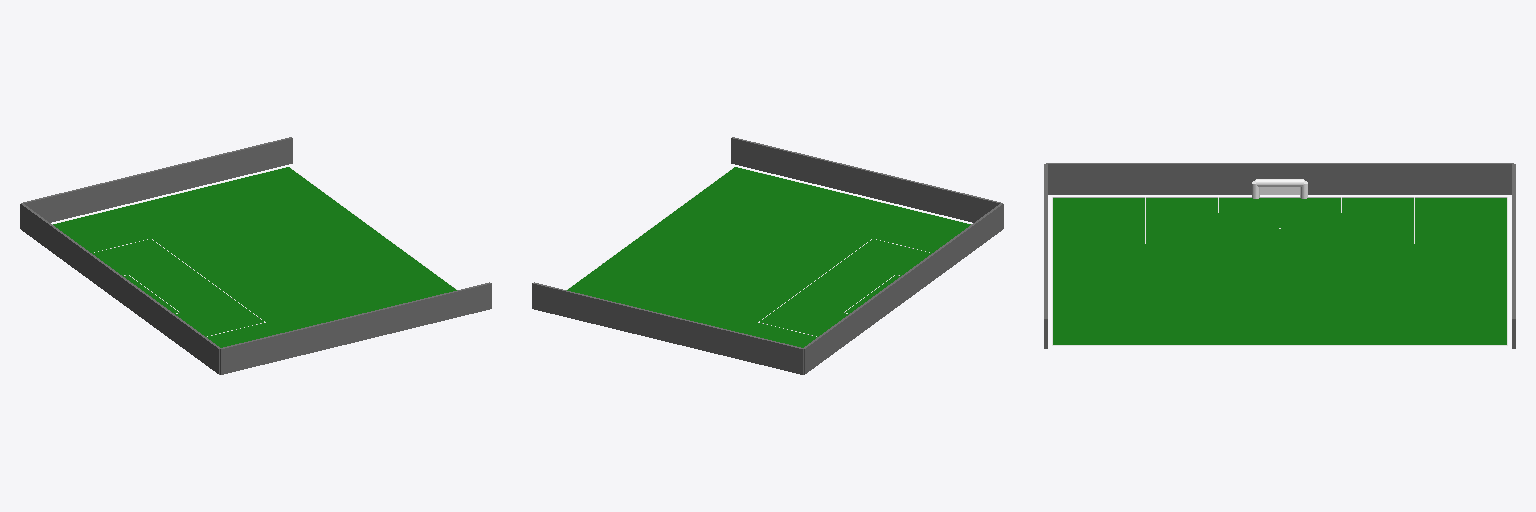
URDF robot description (soccer_field_standard_half):
<?xml version="1.0" encoding="utf-8"?>
<robot name="soccer_field_standard_half">
  <!-- 标准半场足球场 URDF 文件 -->
  <!-- 半场尺寸: 52.5m x 68m (缩放比例 1:10) -->
  <!-- 符合FIFA标准尺寸 -->
  
  <!-- 球场地面 -->
  <link name="field_plane">
    <inertial>
      <mass value="10000"/>
      <origin xyz="0 0 0" rpy="0 0 0"/>
      <inertia ixx="1000.0" ixy="0.0" ixz="0.0" iyy="1000.0" iyz="0.0" izz="1000.0"/>
    </inertial>
    <visual>
      <origin xyz="0 0 0" rpy="0 0 0"/>
      <geometry>
        <box size="5.25 6.8 0.01"/>
      </geometry>
      <material name="grass_green">
        <color rgba="0.133 0.545 0.133 1.0"/>
      </material>
    </visual>
    <collision>
      <origin xyz="0 0 0" rpy="0 0 0"/>
      <geometry>
        <box size="5.25 6.8 0.01"/>
      </geometry>
    </collision>
  </link>

  <!-- 边界线 -->
  <!-- 底线（球门线） -->
  <link name="goal_line">
    <visual>
      <origin xyz="0 0 0.001" rpy="0 0 0"/>
      <geometry>
        <box size="0.012 6.8 0.001"/>
      </geometry>
      <material name="white_line">
        <color rgba="1.0 1.0 1.0 1.0"/>
      </material>
    </visual>
  </link>

  <joint name="goal_line_joint" type="fixed">
    <parent link="field_plane"/>
    <child link="goal_line"/>
    <origin xyz="-2.625 0 0.005" rpy="0 0 0"/>
  </joint>

  <!-- 边线（左） -->
  <link name="left_sideline">
    <visual>
      <origin xyz="0 0 0.001" rpy="0 0 0"/>
      <geometry>
        <box size="5.25 0.012 0.001"/>
      </geometry>
      <material name="white_line">
        <color rgba="1.0 1.0 1.0 1.0"/>
      </material>
    </visual>
  </link>

  <joint name="left_sideline_joint" type="fixed">
    <parent link="field_plane"/>
    <child link="left_sideline"/>
    <origin xyz="0 -3.4 0.005" rpy="0 0 0"/>
  </joint>

  <!-- 边线（右） -->
  <link name="right_sideline">
    <visual>
      <origin xyz="0 0 0.001" rpy="0 0 0"/>
      <geometry>
        <box size="5.25 0.012 0.001"/>
      </geometry>
      <material name="white_line">
        <color rgba="1.0 1.0 1.0 1.0"/>
      </material>
    </visual>
  </link>

  <joint name="right_sideline_joint" type="fixed">
    <parent link="field_plane"/>
    <child link="right_sideline"/>
    <origin xyz="0 3.4 0.005" rpy="0 0 0"/>
  </joint>

  <!-- 中线 -->
  <link name="halfway_line">
    <visual>
      <origin xyz="0 0 0.001" rpy="0 0 0"/>
      <geometry>
        <box size="0.012 6.8 0.001"/>
      </geometry>
      <material name="white_line">
        <color rgba="1.0 1.0 1.0 1.0"/>
      </material>
    </visual>
  </link>

  <joint name="halfway_line_joint" type="fixed">
    <parent link="field_plane"/>
    <child link="halfway_line"/>
    <origin xyz="2.625 0 0.005" rpy="0 0 0"/>
  </joint>

  <!-- 中心点 -->
  <link name="center_spot">
    <visual>
      <origin xyz="0 0 0.001" rpy="0 0 0"/>
      <geometry>
        <cylinder radius="0.015" length="0.002"/>
      </geometry>
      <material name="white_spot">
        <color rgba="1.0 1.0 1.0 1.0"/>
      </material>
    </visual>
  </link>

  <joint name="center_spot_joint" type="fixed">
    <parent link="field_plane"/>
    <child link="center_spot"/>
    <origin xyz="2.625 0 0.006" rpy="0 0 0"/>
  </joint>

  <!-- 大禁区（罚球区） -->
  <!-- 大禁区前沿线 -->
  <link name="penalty_area_front">
    <visual>
      <origin xyz="0 0 0.001" rpy="0 0 0"/>
      <geometry>
        <box size="0.012 4.03 0.001"/>
      </geometry>
      <material name="white_line">
        <color rgba="1.0 1.0 1.0 1.0"/>
      </material>
    </visual>
  </link>

  <joint name="penalty_area_front_joint" type="fixed">
    <parent link="field_plane"/>
    <child link="penalty_area_front"/>
    <origin xyz="-0.975 0 0.005" rpy="0 0 0"/>
  </joint>

  <!-- 大禁区左侧线 -->
  <link name="penalty_area_left">
    <visual>
      <origin xyz="0 0 0.001" rpy="0 0 0"/>
      <geometry>
        <box size="1.65 0.012 0.001"/>
      </geometry>
      <material name="white_line">
        <color rgba="1.0 1.0 1.0 1.0"/>
      </material>
    </visual>
  </link>

  <joint name="penalty_area_left_joint" type="fixed">
    <parent link="field_plane"/>
    <child link="penalty_area_left"/>
    <origin xyz="-1.8 -2.015 0.005" rpy="0 0 0"/>
  </joint>

  <!-- 大禁区右侧线 -->
  <link name="penalty_area_right">
    <visual>
      <origin xyz="0 0 0.001" rpy="0 0 0"/>
      <geometry>
        <box size="1.65 0.012 0.001"/>
      </geometry>
      <material name="white_line">
        <color rgba="1.0 1.0 1.0 1.0"/>
      </material>
    </visual>
  </link>

  <joint name="penalty_area_right_joint" type="fixed">
    <parent link="field_plane"/>
    <child link="penalty_area_right"/>
    <origin xyz="-1.8 2.015 0.005" rpy="0 0 0"/>
  </joint>

  <!-- 小禁区（球门区） -->
  <!-- 小禁区前沿线 -->
  <link name="goal_area_front">
    <visual>
      <origin xyz="0 0 0.001" rpy="0 0 0"/>
      <geometry>
        <box size="0.012 1.832 0.001"/>
      </geometry>
      <material name="white_line">
        <color rgba="1.0 1.0 1.0 1.0"/>
      </material>
    </visual>
  </link>

  <joint name="goal_area_front_joint" type="fixed">
    <parent link="field_plane"/>
    <child link="goal_area_front"/>
    <origin xyz="-2.075 0 0.005" rpy="0 0 0"/>
  </joint>

  <!-- 小禁区左侧线 -->
  <link name="goal_area_left">
    <visual>
      <origin xyz="0 0 0.001" rpy="0 0 0"/>
      <geometry>
        <box size="0.55 0.012 0.001"/>
      </geometry>
      <material name="white_line">
        <color rgba="1.0 1.0 1.0 1.0"/>
      </material>
    </visual>
  </link>

  <joint name="goal_area_left_joint" type="fixed">
    <parent link="field_plane"/>
    <child link="goal_area_left"/>
    <origin xyz="-2.35 -0.916 0.005" rpy="0 0 0"/>
  </joint>

  <!-- 小禁区右侧线 -->
  <link name="goal_area_right">
    <visual>
      <origin xyz="0 0 0.001" rpy="0 0 0"/>
      <geometry>
        <box size="0.55 0.012 0.001"/>
      </geometry>
      <material name="white_line">
        <color rgba="1.0 1.0 1.0 1.0"/>
      </material>
    </visual>
  </link>

  <joint name="goal_area_right_joint" type="fixed">
    <parent link="field_plane"/>
    <child link="goal_area_right"/>
    <origin xyz="-2.35 0.916 0.005" rpy="0 0 0"/>
  </joint>

  <!-- 点球点 -->
  <link name="penalty_spot">
    <visual>
      <origin xyz="0 0 0.001" rpy="0 0 0"/>
      <geometry>
        <cylinder radius="0.015" length="0.002"/>
      </geometry>
      <material name="white_spot">
        <color rgba="1.0 1.0 1.0 1.0"/>
      </material>
    </visual>
  </link>

  <joint name="penalty_spot_joint" type="fixed">
    <parent link="field_plane"/>
    <child link="penalty_spot"/>
    <origin xyz="-1.525 0 0.006" rpy="0 0 0"/>
  </joint>

  <!-- 球门 -->
  <!-- 球门立柱和横梁 -->
  <!-- 左立柱 -->
  <link name="goal_post_left">
    <inertial>
      <mass value="50"/>
      <origin xyz="0 0 0" rpy="0 0 0"/>
      <inertia ixx="5.0" ixy="0.0" ixz="0.0" iyy="5.0" iyz="0.0" izz="5.0"/>
    </inertial>
    <visual>
      <origin xyz="0 0 0" rpy="0 0 0"/>
      <geometry>
        <cylinder radius="0.06" length="0.244"/>
      </geometry>
      <material name="goal_white">
        <color rgba="1.0 1.0 1.0 1.0"/>
      </material>
    </visual>
    <collision>
      <origin xyz="0 0 0" rpy="0 0 0"/>
      <geometry>
        <cylinder radius="0.06" length="0.244"/>
      </geometry>
    </collision>
  </link>

  <joint name="goal_post_left_joint" type="fixed">
    <parent link="field_plane"/>
    <child link="goal_post_left"/>
    <origin xyz="-2.625 -0.366 0.127" rpy="0 0 0"/>
  </joint>

  <!-- 右立柱 -->
  <link name="goal_post_right">
    <inertial>
      <mass value="50"/>
      <origin xyz="0 0 0" rpy="0 0 0"/>
      <inertia ixx="5.0" ixy="0.0" ixz="0.0" iyy="5.0" iyz="0.0" izz="5.0"/>
    </inertial>
    <visual>
      <origin xyz="0 0 0" rpy="0 0 0"/>
      <geometry>
        <cylinder radius="0.06" length="0.244"/>
      </geometry>
      <material name="goal_white">
        <color rgba="1.0 1.0 1.0 1.0"/>
      </material>
    </visual>
    <collision>
      <origin xyz="0 0 0" rpy="0 0 0"/>
      <geometry>
        <cylinder radius="0.06" length="0.244"/>
      </geometry>
    </collision>
  </link>

  <joint name="goal_post_right_joint" type="fixed">
    <parent link="field_plane"/>
    <child link="goal_post_right"/>
    <origin xyz="-2.625 0.366 0.127" rpy="0 0 0"/>
  </joint>

  <!-- 横梁 -->
  <link name="goal_crossbar">
    <inertial>
      <mass value="30"/>
      <origin xyz="0 0 0" rpy="0 0 0"/>
      <inertia ixx="3.0" ixy="0.0" ixz="0.0" iyy="3.0" iyz="0.0" izz="3.0"/>
    </inertial>
    <visual>
      <origin xyz="0 0 0" rpy="1.5708 0 0"/>
      <geometry>
        <cylinder radius="0.06" length="0.732"/>
      </geometry>
      <material name="goal_white">
        <color rgba="1.0 1.0 1.0 1.0"/>
      </material>
    </visual>
    <collision>
      <origin xyz="0 0 0" rpy="1.5708 0 0"/>
      <geometry>
        <cylinder radius="0.06" length="0.732"/>
      </geometry>
    </collision>
  </link>

  <joint name="goal_crossbar_joint" type="fixed">
    <parent link="field_plane"/>
    <child link="goal_crossbar"/>
    <origin xyz="-2.625 0 0.244" rpy="0 0 0"/>
  </joint>

  <!-- 球门网（简化表示） -->
  <!-- 后网 -->
  <link name="goal_net_back">
    <visual>
      <origin xyz="0 0 0" rpy="0 0 0"/>
      <geometry>
        <box size="0.01 0.732 0.244"/>
      </geometry>
      <material name="net_white">
        <color rgba="1.0 1.0 1.0 0.3"/>
      </material>
    </visual>
  </link>

  <joint name="goal_net_back_joint" type="fixed">
    <parent link="field_plane"/>
    <child link="goal_net_back"/>
    <origin xyz="-2.725 0 0.127" rpy="0 0 0"/>
  </joint>

  <!-- 左侧网 -->
  <link name="goal_net_left">
    <visual>
      <origin xyz="0 0 0" rpy="0 0 0"/>
      <geometry>
        <box size="0.1 0.01 0.244"/>
      </geometry>
      <material name="net_white">
        <color rgba="1.0 1.0 1.0 0.3"/>
      </material>
    </visual>
  </link>

  <joint name="goal_net_left_joint" type="fixed">
    <parent link="field_plane"/>
    <child link="goal_net_left"/>
    <origin xyz="-2.675 -0.366 0.127" rpy="0 0 0"/>
  </joint>

  <!-- 右侧网 -->
  <link name="goal_net_right">
    <visual>
      <origin xyz="0 0 0" rpy="0 0 0"/>
      <geometry>
        <box size="0.1 0.01 0.244"/>
      </geometry>
      <material name="net_white">
        <color rgba="1.0 1.0 1.0 0.3"/>
      </material>
    </visual>
  </link>

  <joint name="goal_net_right_joint" type="fixed">
    <parent link="field_plane"/>
    <child link="goal_net_right"/>
    <origin xyz="-2.675 0.366 0.127" rpy="0 0 0"/>
  </joint>

  <!-- 顶网 -->
  <link name="goal_net_top">
    <visual>
      <origin xyz="0 0 0" rpy="0 0 0"/>
      <geometry>
        <box size="0.1 0.732 0.01"/>
      </geometry>
      <material name="net_white">
        <color rgba="1.0 1.0 1.0 0.3"/>
      </material>
    </visual>
  </link>

  <joint name="goal_net_top_joint" type="fixed">
    <parent link="field_plane"/>
    <child link="goal_net_top"/>
    <origin xyz="-2.675 0 0.244" rpy="0 0 0"/>
  </joint>

  <!-- 场地边界围栏（可选） -->
  <!-- 左边界 -->
  <link name="left_fence">
    <inertial>
      <mass value="100"/>
      <origin xyz="0 0 0" rpy="0 0 0"/>
      <inertia ixx="10.0" ixy="0.0" ixz="0.0" iyy="10.0" iyz="0.0" izz="10.0"/>
    </inertial>
    <visual>
      <origin xyz="0 0 0" rpy="0 0 0"/>
      <geometry>
        <box size="5.5 0.05 0.5"/>
      </geometry>
      <material name="fence_gray">
        <color rgba="0.5 0.5 0.5 0.8"/>
      </material>
    </visual>
    <collision>
      <origin xyz="0 0 0" rpy="0 0 0"/>
      <geometry>
        <box size="5.5 0.05 0.5"/>
      </geometry>
    </collision>
  </link>

  <joint name="left_fence_joint" type="fixed">
    <parent link="field_plane"/>
    <child link="left_fence"/>
    <origin xyz="0 -3.5 0.255" rpy="0 0 0"/>
  </joint>

  <!-- 右边界 -->
  <link name="right_fence">
    <inertial>
      <mass value="100"/>
      <origin xyz="0 0 0" rpy="0 0 0"/>
      <inertia ixx="10.0" ixy="0.0" ixz="0.0" iyy="10.0" iyz="0.0" izz="10.0"/>
    </inertial>
    <visual>
      <origin xyz="0 0 0" rpy="0 0 0"/>
      <geometry>
        <box size="5.5 0.05 0.5"/>
      </geometry>
      <material name="fence_gray">
        <color rgba="0.5 0.5 0.5 0.8"/>
      </material>
    </visual>
    <collision>
      <origin xyz="0 0 0" rpy="0 0 0"/>
      <geometry>
        <box size="5.5 0.05 0.5"/>
      </geometry>
    </collision>
  </link>

  <joint name="right_fence_joint" type="fixed">
    <parent link="field_plane"/>
    <child link="right_fence"/>
    <origin xyz="0 3.5 0.255" rpy="0 0 0"/>
  </joint>

  <!-- 后边界（球门后） -->
  <link name="back_fence">
    <inertial>
      <mass value="100"/>
      <origin xyz="0 0 0" rpy="0 0 0"/>
      <inertia ixx="10.0" ixy="0.0" ixz="0.0" iyy="10.0" iyz="0.0" izz="10.0"/>
    </inertial>
    <visual>
      <origin xyz="0 0 0" rpy="0 0 0"/>
      <geometry>
        <box size="0.05 7.0 0.5"/>
      </geometry>
      <material name="fence_gray">
        <color rgba="0.5 0.5 0.5 0.8"/>
      </material>
    </visual>
    <collision>
      <origin xyz="0 0 0" rpy="0 0 0"/>
      <geometry>
        <box size="0.05 7.0 0.5"/>
      </geometry>
    </collision>
  </link>

  <joint name="back_fence_joint" type="fixed">
    <parent link="field_plane"/>
    <child link="back_fence"/>
    <origin xyz="-2.75 0 0.255" rpy="0 0 0"/>
  </joint>

</robot> 

--- Facts derived from the render (not from the file) ---
Views: 3 orthographic renders of the robot side by side, from view 1: azimuth 30°, elevation 25°; view 2: azimuth 150°, elevation 25°; view 3: azimuth 270°, elevation 25°.
Robot: soccer_field_standard_half — 23 links, 22 joints (22 fixed); root link field_plane; default pose: every joint at zero.
Visible links, largest first — view 1: field_plane, left_fence, right_fence, back_fence; view 2: field_plane, right_fence, left_fence, back_fence; view 3: field_plane, back_fence, left_fence, right_fence.
Boxes of the visible links, left/top/right/bottom form: field_plane: left=53, top=167, right=456, bottom=347; left_fence: left=220, top=282, right=491, bottom=374; right_fence: left=22, top=137, right=292, bottom=222; back_fence: left=20, top=203, right=219, bottom=374; field_plane: left=567, top=167, right=970, bottom=347; right_fence: left=532, top=282, right=803, bottom=374; left_fence: left=731, top=137, right=1001, bottom=222; back_fence: left=804, top=203, right=1003, bottom=374; field_plane: left=1053, top=198, right=1506, bottom=344; back_fence: left=1046, top=163, right=1513, bottom=194; left_fence: left=1044, top=164, right=1047, bottom=348; right_fence: left=1512, top=164, right=1515, bottom=348.
Bounding box of the posed robot: 5.53 × 7.05 × 0.51 m (x, y, z).
Geometry: primitives only (box / cylinder / sphere), no mesh files.
